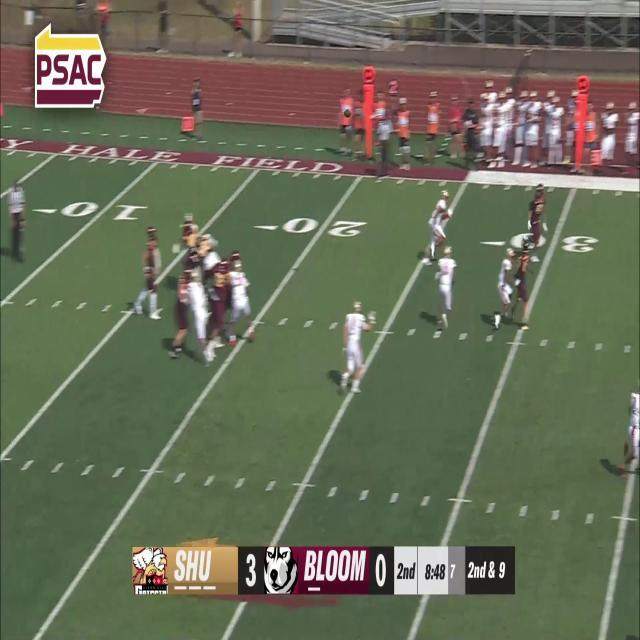football: (343, 109, 352, 119)
